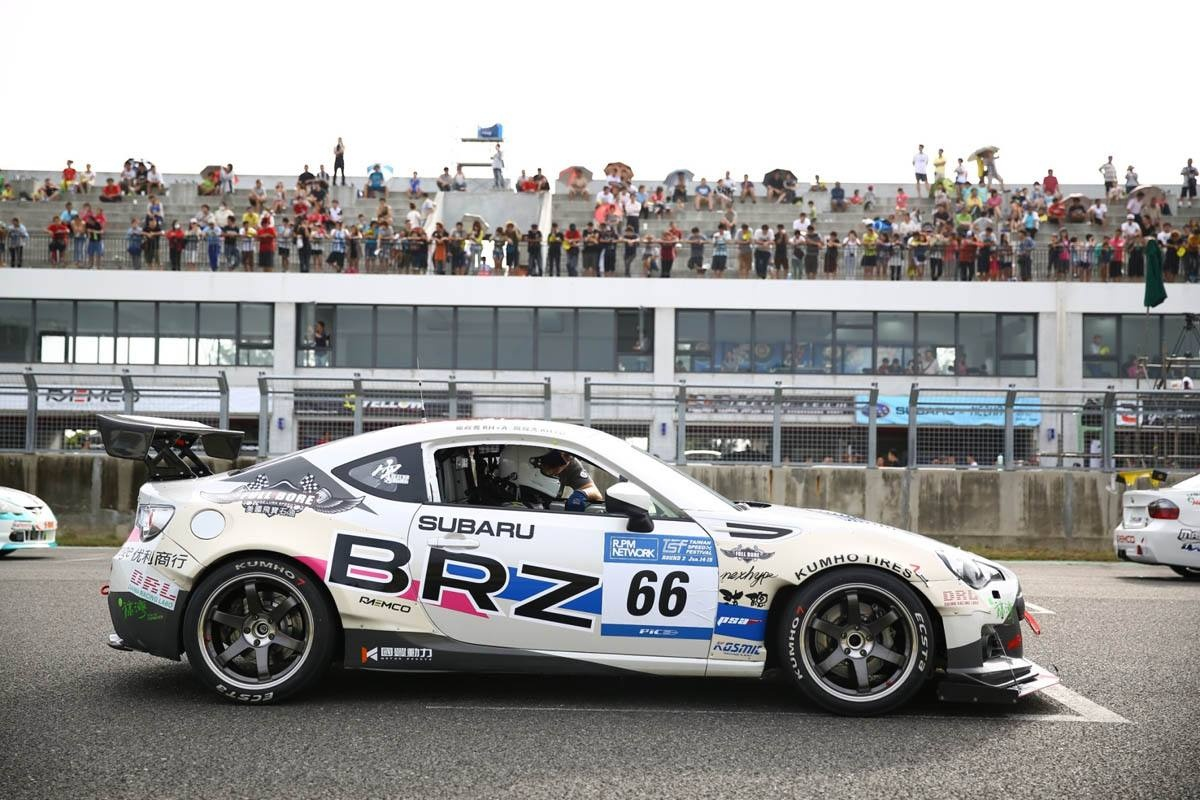racing car: (103, 398, 1058, 719)
